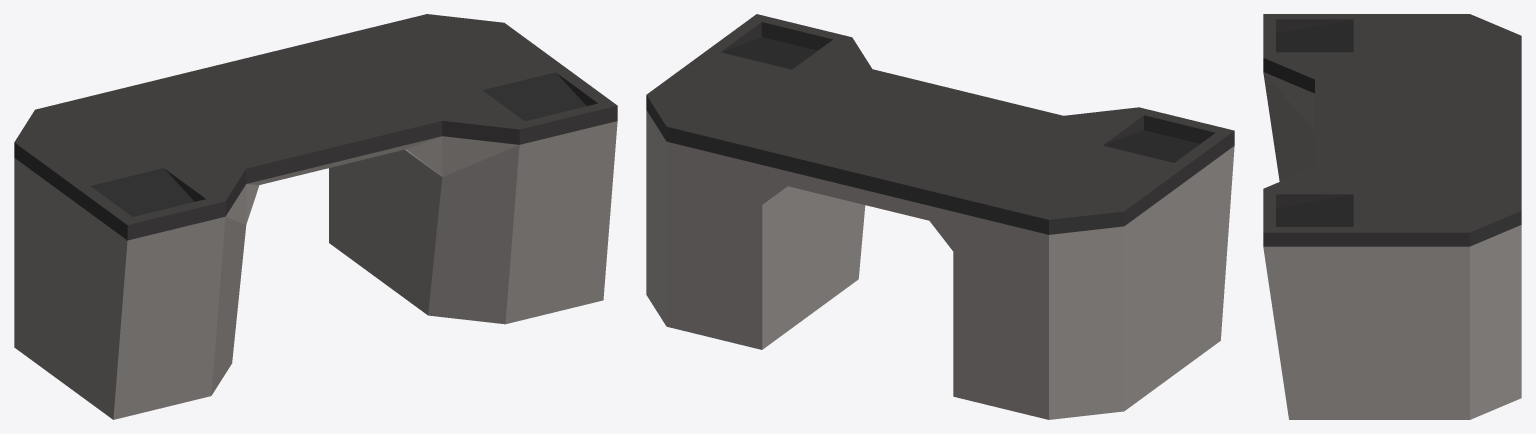
Rendered from scifi-table.glb.
3 views of the same model, side by side, from view 1: azimuth 30°, elevation 25°; view 2: azimuth 150°, elevation 25°; view 3: azimuth 270°, elevation 25° (orthographic). The views are drawn at different scales.
Parts seen in each view (by area): view 1: scifi-table; view 2: scifi-table; view 3: scifi-table.
Boxes of the visible parts, bbox=[...] form: scifi-table: bbox=[14, 14, 617, 419]; scifi-table: bbox=[646, 14, 1234, 419]; scifi-table: bbox=[1263, 14, 1521, 419].
Bounding box in the file's own units: 2 × 0.8 × 1.
Materials: 1 (1 with a texture image).
